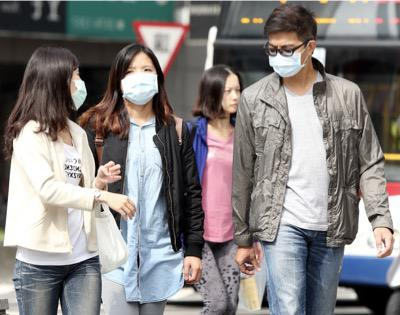with_mask: (267, 38, 309, 78), (119, 63, 159, 105), (68, 67, 88, 110)
without_mask: (221, 82, 243, 113)
